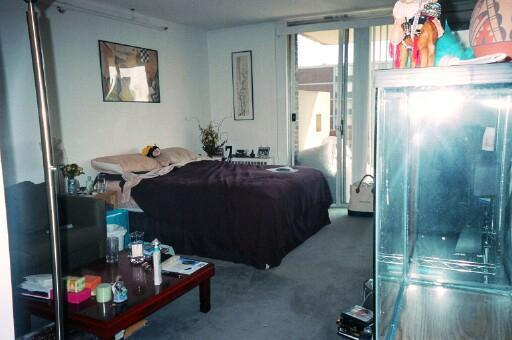Cama: (105, 143, 331, 270)
Otro Obstaculo: (372, 73, 509, 338), (20, 6, 72, 335)
